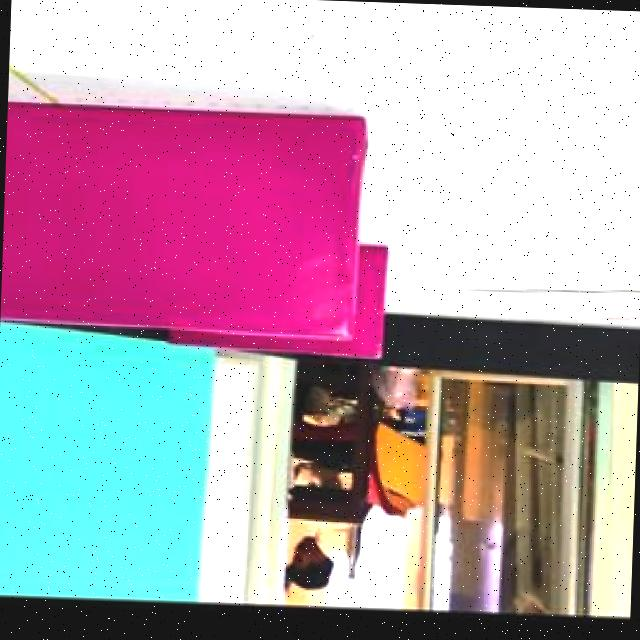xparking: (0, 101, 364, 321)
